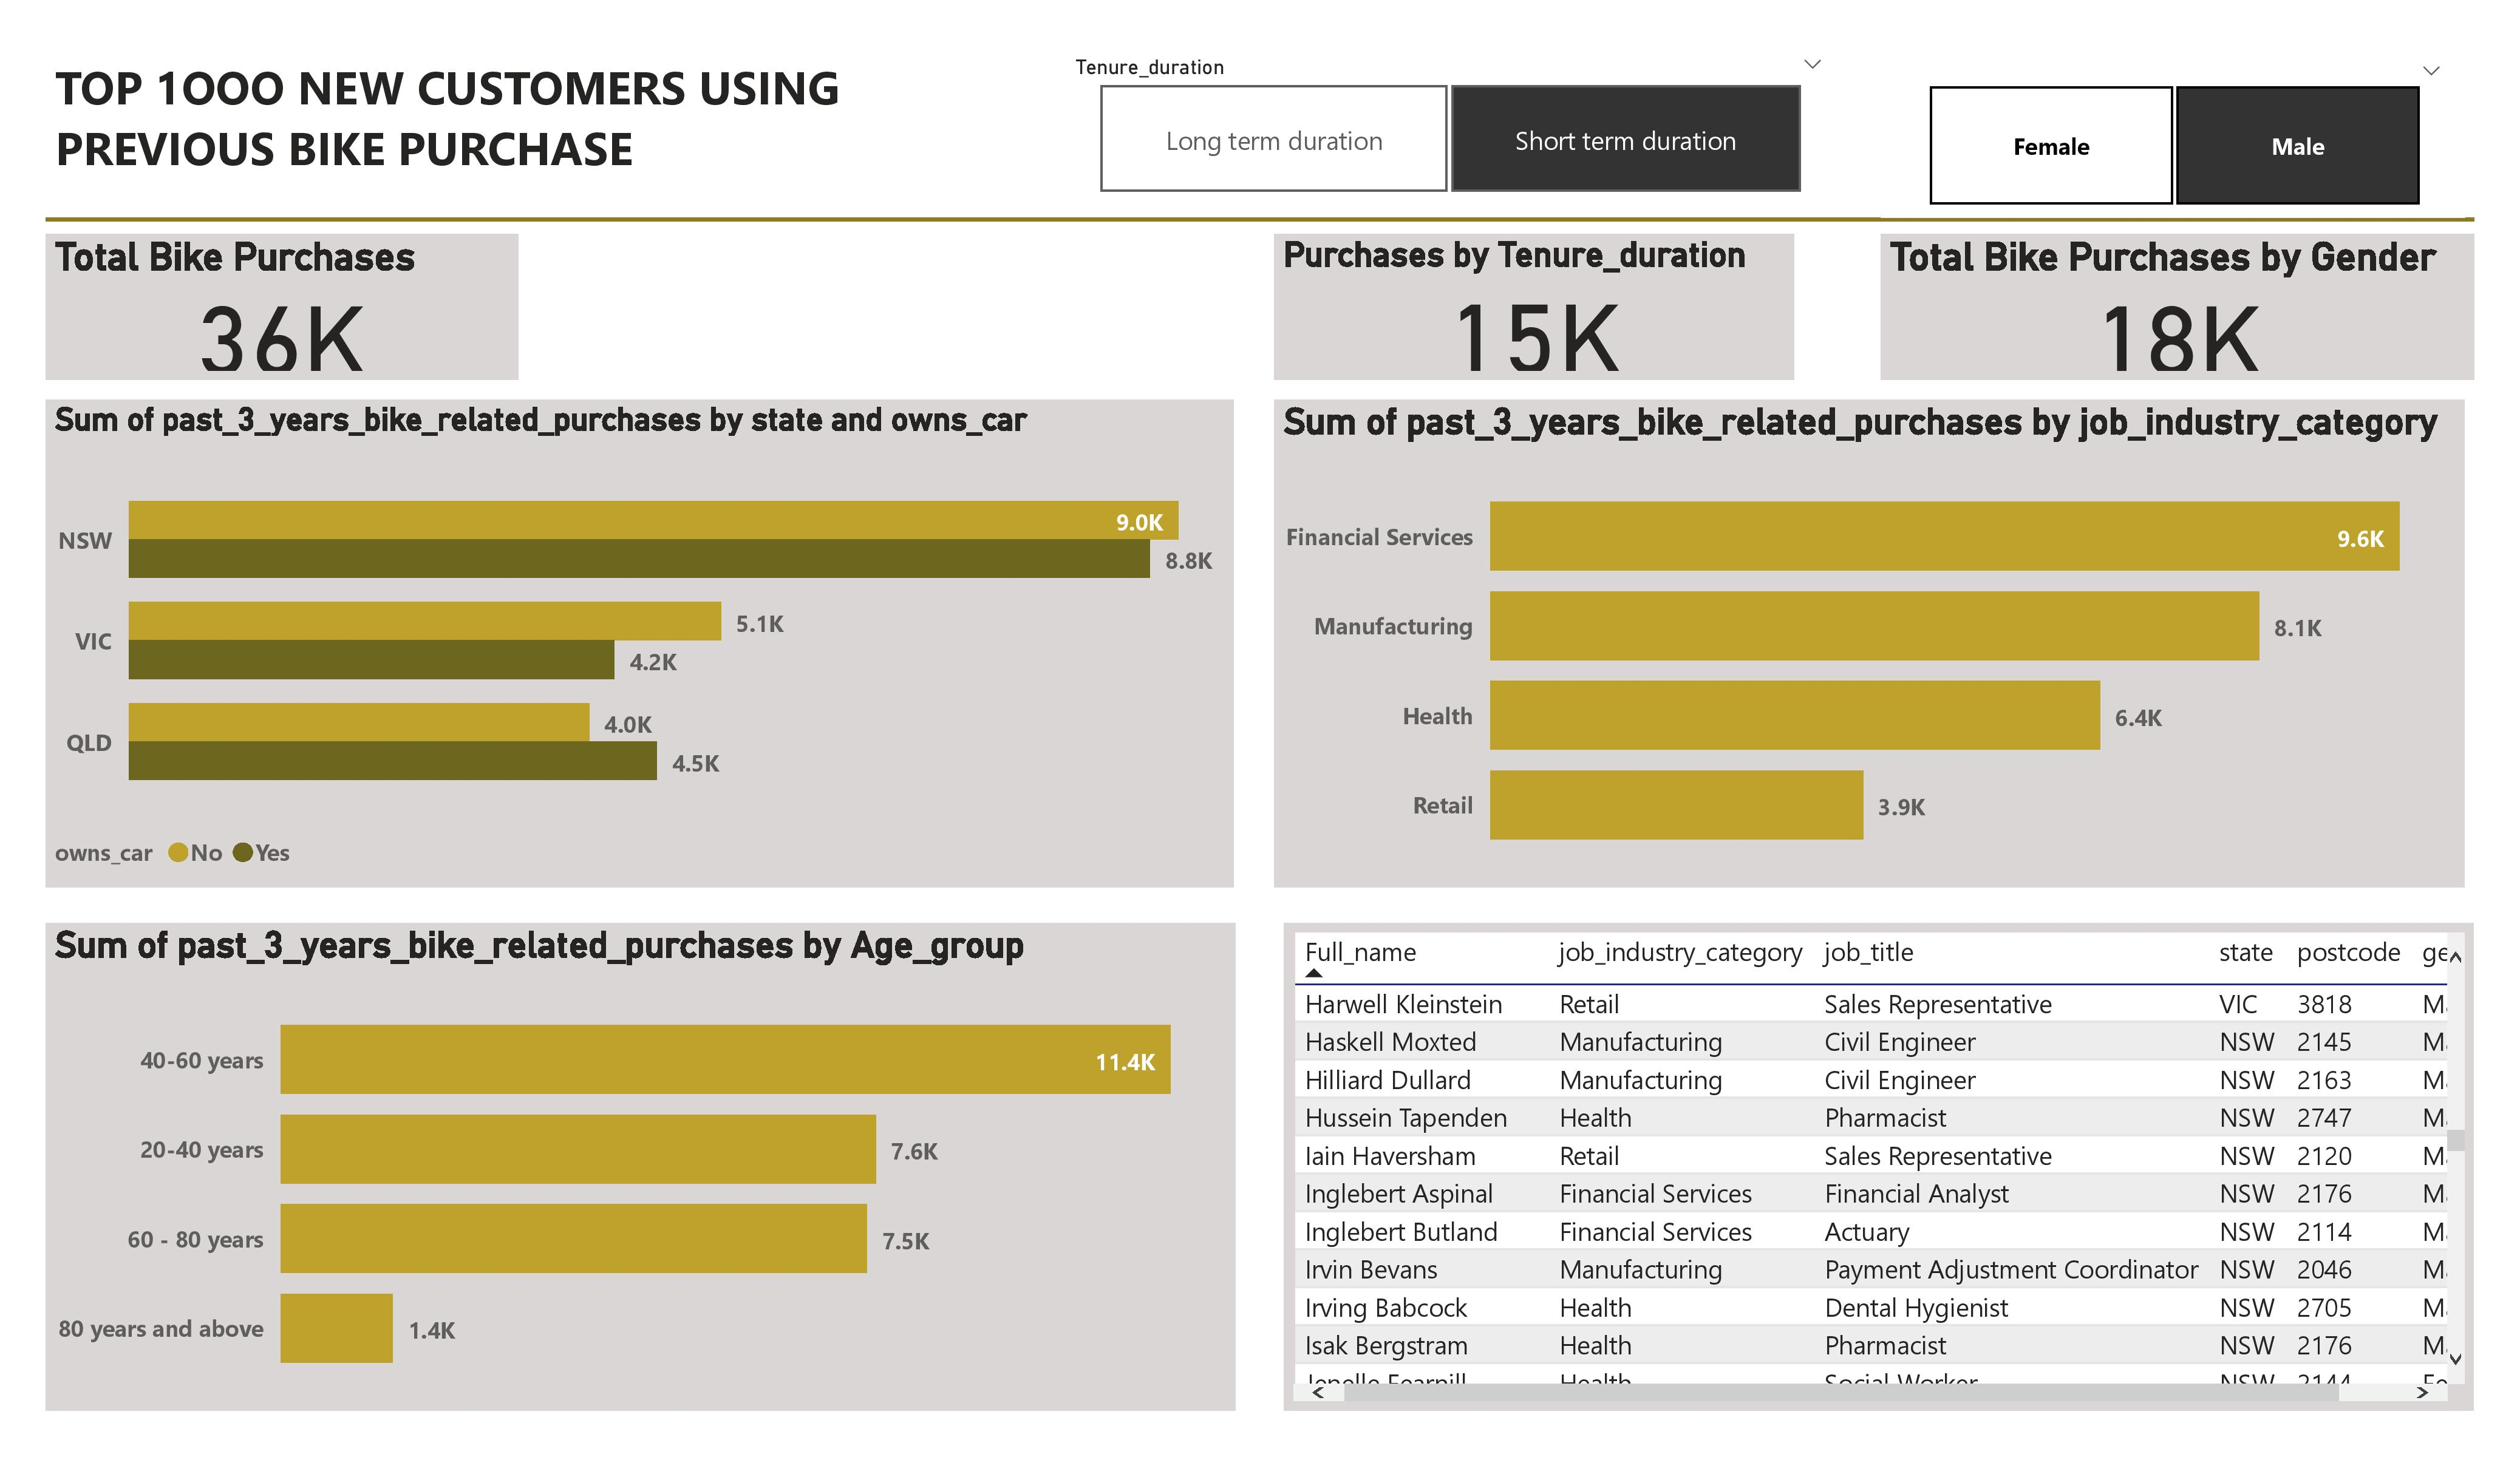

The page's visual inventory and layout, read from the dashboard file:
{"tool":"powerbi","page":{"name":"Dashboard","canvas":[1280,720],"ordinal":0},"visuals":[{"type":"shape","box":[0,84.1,1280,15.1],"z":0},{"type":"card","title":"Purchases by Tenure_duration","fields":{"Values":["Sum(NewCustomerList.past_3_years_bike_related_purchases)"]},"box":[647.6,99.2,274.2,77.4],"z":1000},{"type":"clusteredBarChart","fields":{"Category":["NewCustomerList.state"],"Y":["Sum(NewCustomerList.past_3_years_bike_related_purchases)"],"Series":["NewCustomerList.owns_car"]},"box":[0,186.7,625.7,257.3],"z":2000},{"type":"clusteredBarChart","fields":{"Y":["Sum(NewCustomerList.past_3_years_bike_related_purchases)"],"Category":["NewCustomerList.job_industry_category"]},"box":[647.6,186.7,627.4,257.3],"z":3000},{"type":"slicer","fields":{"Values":["NewCustomerList.gender"]},"box":[972.2,0,307.8,84.1],"z":4000},{"type":"clusteredBarChart","fields":{"Y":["Sum(NewCustomerList.past_3_years_bike_related_purchases)"],"Category":["NewCustomerList.Age_group"]},"box":[0,462.5,627.4,257.3],"z":5000},{"type":"tableEx","fields":{"Values":["NewCustomerList.Full_name","NewCustomerList.job_industry_category","NewCustomerList.job_title","NewCustomerList.state","NewCustomerList.postcode","NewCustomerList.gender"]},"box":[652.6,462.5,627.4,257.3],"z":6000},{"type":"card","title":"Total Bike Purchases","fields":{"Values":["Sum(NewCustomerList.past_3_years_bike_related_purchases)"]},"box":[0,99.2,248.9,77.4],"z":7000},{"type":"slicer","fields":{"Values":["NewCustomerList.Tenure_duration"]},"box":[652.6,13.5,351.5,63.9],"z":8000},{"type":"card","title":"Total Bike Purchases by Gender","fields":{"Values":["Sum(NewCustomerList.past_3_years_bike_related_purchases)"]},"box":[967.1,99.2,312.9,77.4],"z":9000},{"type":"textbox","box":[0,70.6,529.8,13.5],"z":10000},{"type":"image","box":[0,0,181.7,84.1],"z":11000},{"type":"textbox","box":[181.7,0,471,77.4],"z":12000}]}

Visuals, with their boxes in screenshot pixels (x1, y1, x2, y2):
shape: select_region(59, 223, 2456, 251)
"Purchases by Tenure_duration" card: select_region(1272, 251, 1785, 396)
clusteredBarChart - NewCustomerList.state x Sum(NewCustomerList.past_3_years_bike_related_purchases): select_region(59, 415, 1231, 897)
clusteredBarChart - Sum(NewCustomerList.past_3_years_bike_related_purchases) x NewCustomerList.job_industry_category: select_region(1272, 415, 2447, 897)
slicer - NewCustomerList.gender: select_region(1880, 66, 2456, 223)
clusteredBarChart - Sum(NewCustomerList.past_3_years_bike_related_purchases) x NewCustomerList.Age_group: select_region(59, 931, 1234, 1413)
tableEx - NewCustomerList.Full_name x NewCustomerList.job_industry_category: select_region(1281, 931, 2456, 1413)
"Total Bike Purchases" card: select_region(59, 251, 525, 396)
slicer - NewCustomerList.Tenure_duration: select_region(1281, 91, 1939, 211)
"Total Bike Purchases by Gender" card: select_region(1870, 251, 2456, 396)
textbox: select_region(59, 198, 1051, 223)
image: select_region(59, 66, 400, 223)
textbox: select_region(400, 66, 1281, 211)
